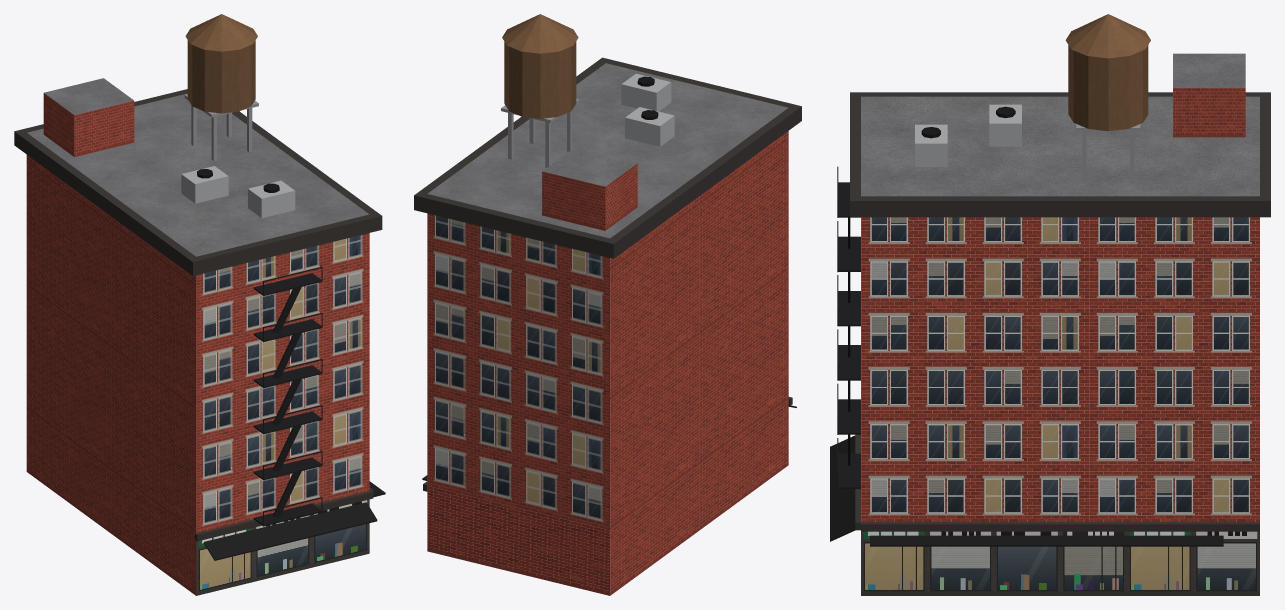
File: 011_tenement_corner_wide.glb
The picture shows the model from 3 angles, left to right: view 1: azimuth 30°, elevation 25°; view 2: azimuth 150°, elevation 25°; view 3: azimuth 270°, elevation 25°; orthographic projection. The views are drawn at different scales.
Parts seen in each view (by area): view 1: 011_tenement_corner_wide; view 2: 011_tenement_corner_wide; view 3: 011_tenement_corner_wide.
Boxes of the visible parts, x1,y1,x2,y2 form: 011_tenement_corner_wide: (14,14,385,595); 011_tenement_corner_wide: (414,14,801,595); 011_tenement_corner_wide: (830,14,1270,595).
Size of the model in its own units: 15.1 by 33.9 by 24.3.
Materials: 11 (5 with a texture image).
